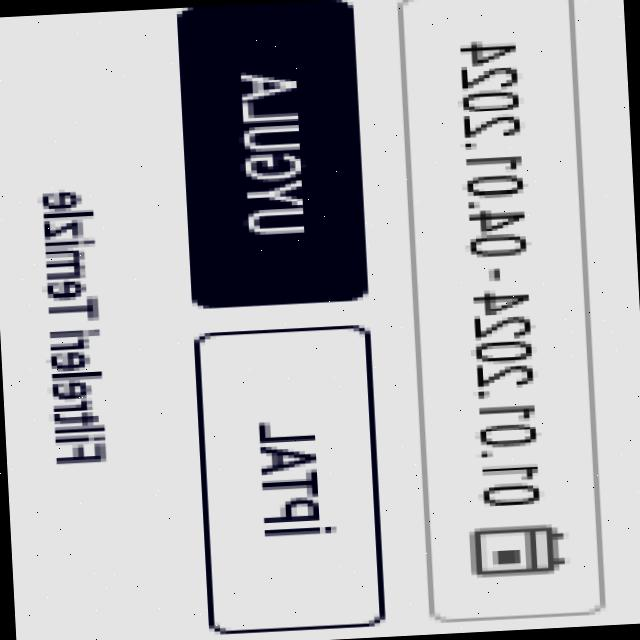QLabel: (34, 187, 112, 466), (230, 68, 315, 238), (250, 417, 340, 542)
VBtn: (190, 322, 390, 636), (176, 0, 374, 311)
VInlineDatepicker: (397, 0, 612, 626)
